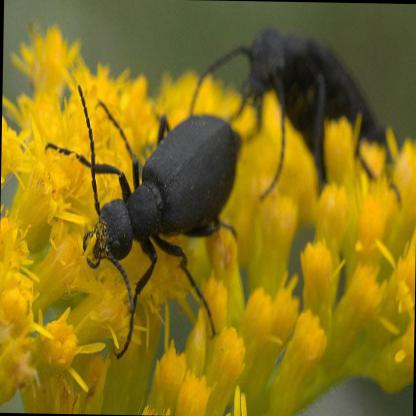blister beetle: (76, 86, 244, 295)
